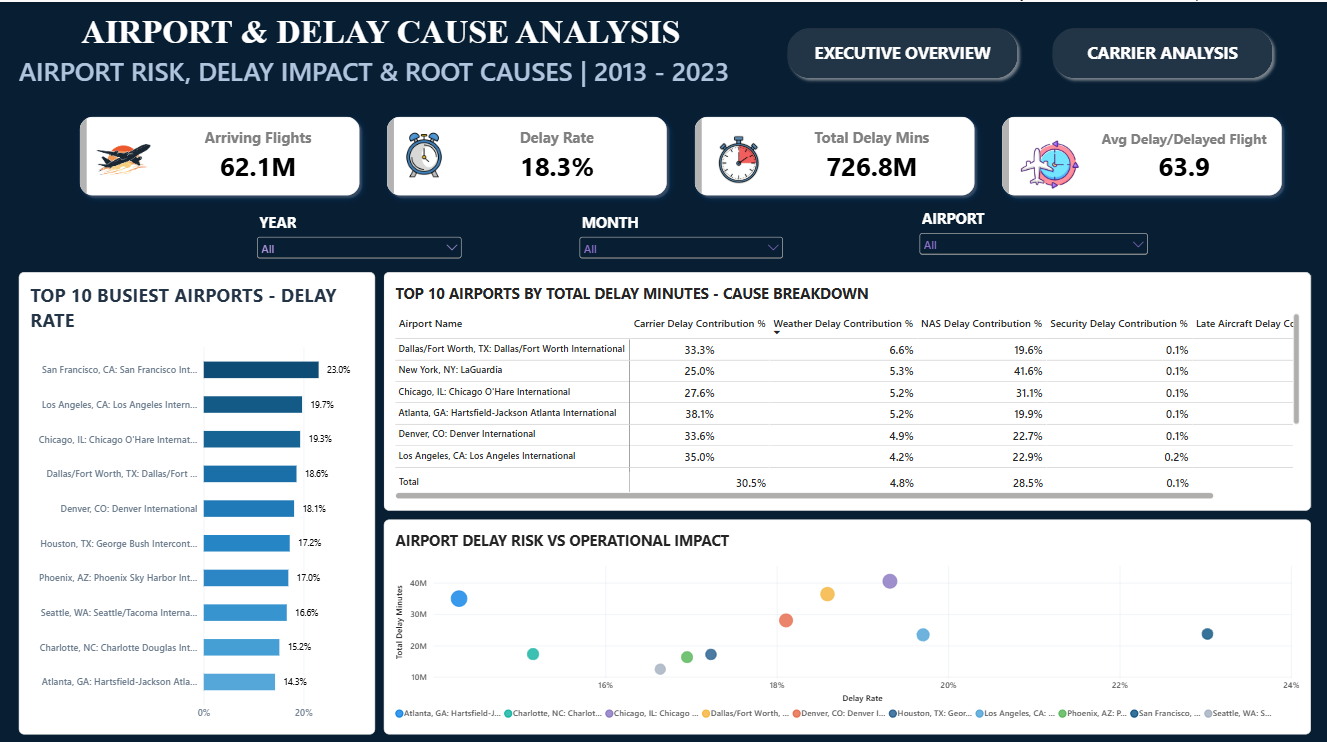

What the dashboard file says about the page in this screenshot:
{"tool":"powerbi","page":{"name":"Airport & Causes","canvas":[1920,1080],"ordinal":2},"visuals":[{"type":"cardVisual","fields":{"Data":["Airline_Delay_Cause.Arriving Flights","Airline_Delay_Cause.Delay Rate","Airline_Delay_Cause.Total Delay Minutes","Airline_Delay_Cause.Delay Minutes per Delayed Flights"]},"box":[99.5,150.2,1773.5,146.6],"z":0},{"type":"clusteredBarChart","title":"TOP 10 BUSIEST AIRPORTS - DELAY RATE","fields":{"Category":["Airline_Delay_Cause.airport_name"],"Y":["Airline_Delay_Cause.Delay Rate"]},"box":[27.1,390.9,515.8,669.6],"z":1000},{"type":"scatterChart","title":"AIRPORT DELAY RISK VS OPERATIONAL IMPACT","fields":{"X":["Airline_Delay_Cause.Delay Rate"],"Y":["Airline_Delay_Cause.Total Delay Minutes"],"Size":["Airline_Delay_Cause.Arriving Flights"],"Series":["Airline_Delay_Cause.airport_name"]},"box":[555.6,749.2,1342.8,311.3],"z":2000},{"type":"pivotTable","title":"TOP 10 AIRPORTS BY TOTAL DELAY MINUTES - CAUSE BREAKDOWN","fields":{"Rows":["Airline_Delay_Cause.airport_name"],"Values":["Airline_Delay_Cause.Carrier Delay Contribution %","Airline_Delay_Cause.Weather Delay Contribution %","Airline_Delay_Cause.NAS Delay Contribution %","Airline_Delay_Cause.Security Delay Contribution %","Airline_Delay_Cause.Late Aircraft Delay Contribution %"]},"box":[555.6,390.9,1342.8,345.6],"z":3000},{"type":"textbox","box":[117.6,16.3,915.7,57.9],"z":4000},{"type":"textbox","box":[27.1,74.2,1056.8,76],"z":5000},{"type":"actionButton","box":[1131,29,351.1,90.5],"z":6000},{"type":"slicer","fields":{"Values":["DateTable.Year"]},"box":[367.4,304,305.8,81.4],"z":7000},{"type":"slicer","fields":{"Values":["DateTable.Month Name"]},"box":[834.3,304,304,81.4],"z":8000},{"type":"slicer","fields":{"Values":["Airline_Delay_Cause.airport_name"]},"box":[1326.5,298.6,340.2,92.3],"z":9000},{"type":"actionButton","box":[1514.7,29,336.6,90.5],"z":10000}]}

Visuals, with their boxes in screenshot pixels (x1, y1, x2, y2), scaled from the page's 1920x1080 canvas onto the 1327x742 screenshot:
cardVisual - Airline_Delay_Cause.Arriving Flights x Airline_Delay_Cause.Delay Rate: (x1=69, y1=103, x2=1295, y2=204)
"TOP 10 BUSIEST AIRPORTS - DELAY RATE" clusteredBarChart: (x1=19, y1=269, x2=375, y2=729)
"AIRPORT DELAY RISK VS OPERATIONAL IMPACT" scatterChart: (x1=384, y1=515, x2=1312, y2=729)
"TOP 10 AIRPORTS BY TOTAL DELAY MINUTES - CAUSE BREAKDOWN" pivotTable: (x1=384, y1=269, x2=1312, y2=506)
textbox: (x1=81, y1=11, x2=714, y2=51)
textbox: (x1=19, y1=51, x2=749, y2=103)
actionButton: (x1=782, y1=20, x2=1024, y2=82)
slicer - DateTable.Year: (x1=254, y1=209, x2=465, y2=265)
slicer - DateTable.Month Name: (x1=577, y1=209, x2=787, y2=265)
slicer - Airline_Delay_Cause.airport_name: (x1=917, y1=205, x2=1152, y2=269)
actionButton: (x1=1047, y1=20, x2=1280, y2=82)
